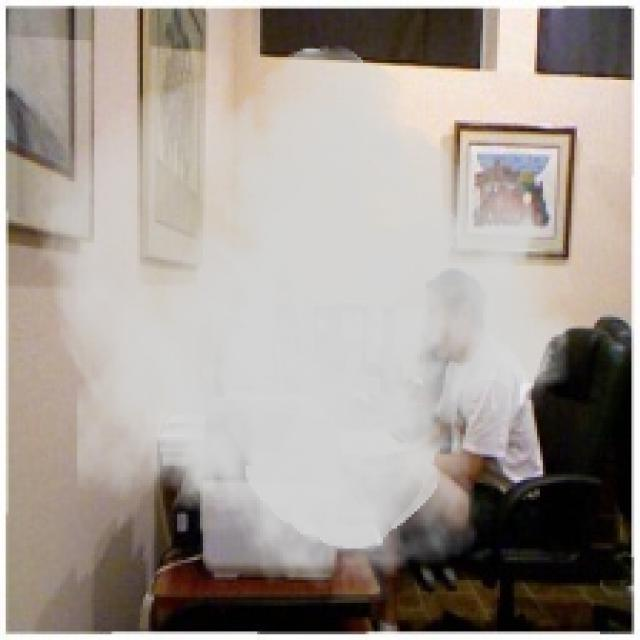Smoke: (28, 45, 580, 606)
